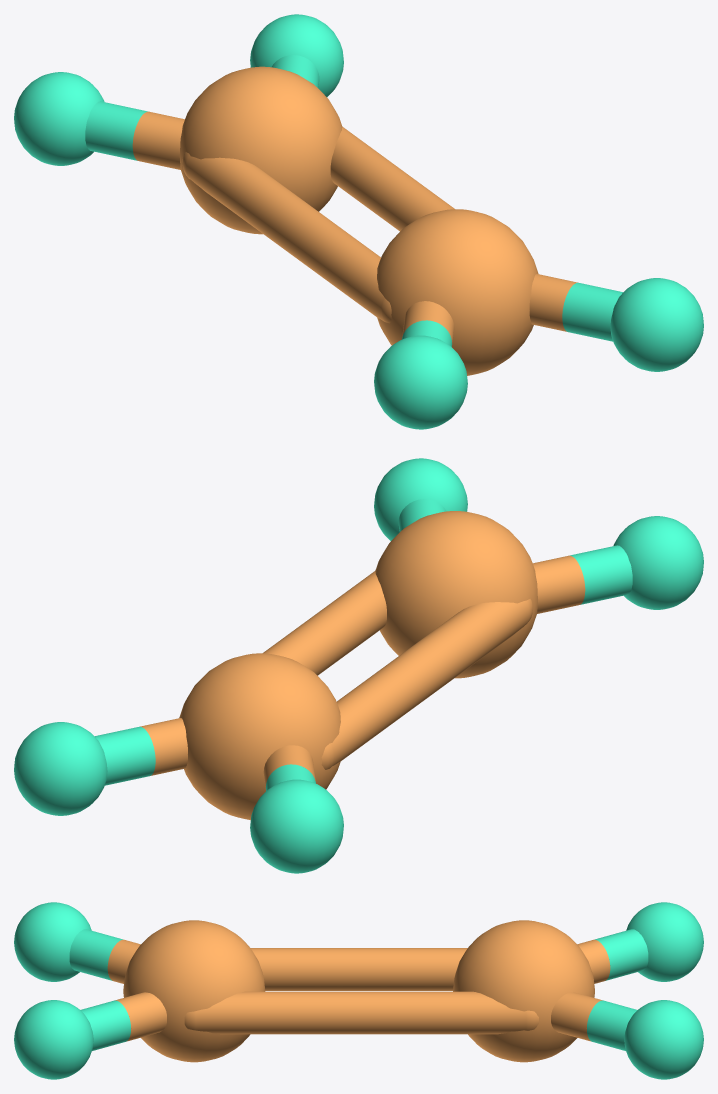
The model's file is alqueno.gltf.
The picture shows the model from 3 angles, top to bottom: view 1: azimuth 30°, elevation 25°; view 2: azimuth 150°, elevation 25°; view 3: azimuth 270°, elevation 25°; orthographic projection. The views are drawn at different scales.
Visible parts, largest first — view 1: Sphere.007, Sphere.006, Cylinder.011, Sphere.005, Sphere.008, Sphere.009, Cylinder.013, Sphere.010, Cylinder.010, Cylinder.015, Cylinder.016, Cylinder.014 (+3 smaller); view 2: Sphere.006, Sphere.007, Cylinder.011, Sphere.009, Sphere.010, Sphere.005, Cylinder.013, Sphere.008, Cylinder.017, Cylinder.009, Cylinder.012, Cylinder.018 (+3 smaller); view 3: Cylinder.013, Sphere.007, Sphere.006, Cylinder.011, Sphere.008, Sphere.010, Sphere.005, Sphere.009, Cylinder.009, Cylinder.015, Cylinder.010, Cylinder.017 (+4 smaller).
Part boxes in pixels (x1=…): Sphere.007: x1=377, y1=209, x2=538, y2=375; Sphere.006: x1=179, y1=66, x2=342, y2=234; Cylinder.011: x1=182, y1=152, x2=391, y2=323; Sphere.005: x1=374, y1=335, x2=467, y2=429; Sphere.008: x1=610, y1=278, x2=703, y2=371; Sphere.009: x1=14, y1=72, x2=104, y2=165; Cylinder.013: x1=330, y1=126, x2=454, y2=231; Sphere.010: x1=250, y1=14, x2=343, y2=97; Cylinder.010: x1=562, y1=282, x2=622, y2=341; Cylinder.015: x1=85, y1=101, x2=147, y2=160; Cylinder.016: x1=132, y1=111, x2=184, y2=169; Cylinder.014: x1=529, y1=274, x2=577, y2=331; Sphere.006: x1=179, y1=653, x2=340, y2=820; Sphere.007: x1=375, y1=511, x2=537, y2=678; Cylinder.011: x1=321, y1=599, x2=532, y2=769; Sphere.009: x1=250, y1=779, x2=343, y2=873; Sphere.010: x1=14, y1=722, x2=107, y2=815; Sphere.005: x1=613, y1=516, x2=703, y2=609; Cylinder.013: x1=263, y1=571, x2=386, y2=675; Sphere.008: x1=374, y1=458, x2=467, y2=540; Cylinder.017: x1=95, y1=726, x2=155, y2=785; Cylinder.009: x1=570, y1=545, x2=632, y2=604; Cylinder.012: x1=533, y1=555, x2=585, y2=613; Cylinder.018: x1=140, y1=718, x2=187, y2=775; Cylinder.013: x1=184, y1=991, x2=538, y2=1034; Sphere.007: x1=123, y1=920, x2=265, y2=1062; Sphere.006: x1=453, y1=920, x2=594, y2=1062; Cylinder.011: x1=250, y1=948, x2=467, y2=990; Sphere.008: x1=14, y1=1000, x2=93, y2=1079; Sphere.010: x1=624, y1=1000, x2=703, y2=1079; Sphere.005: x1=14, y1=902, x2=91, y2=981; Sphere.009: x1=626, y1=902, x2=703, y2=981; Cylinder.009: x1=69, y1=929, x2=122, y2=980; Cylinder.015: x1=595, y1=929, x2=648, y2=980; Cylinder.010: x1=80, y1=1000, x2=130, y2=1050; Cylinder.017: x1=587, y1=1000, x2=637, y2=1050.
Bounding box in the file's own units: 0.000687 × 0.000314 × 0.00153.
